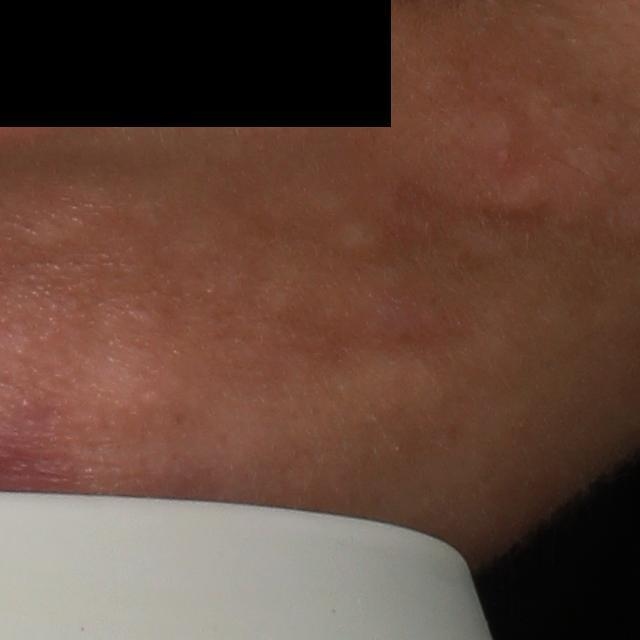hypertrophic_scar: (417, 173, 556, 220), (421, 103, 517, 169), (13, 208, 92, 258), (330, 218, 388, 261)
